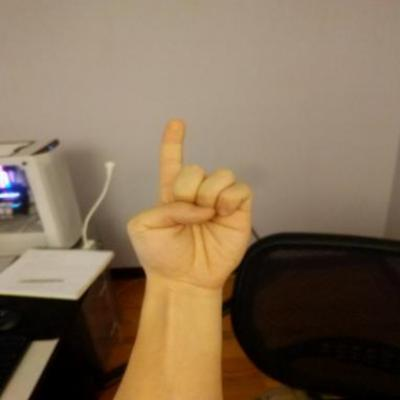hand: (120, 114, 258, 301)
